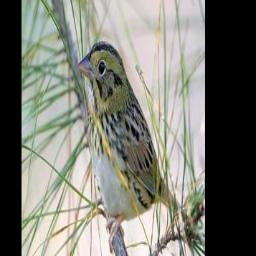Sparrow: (77, 37, 191, 252)
